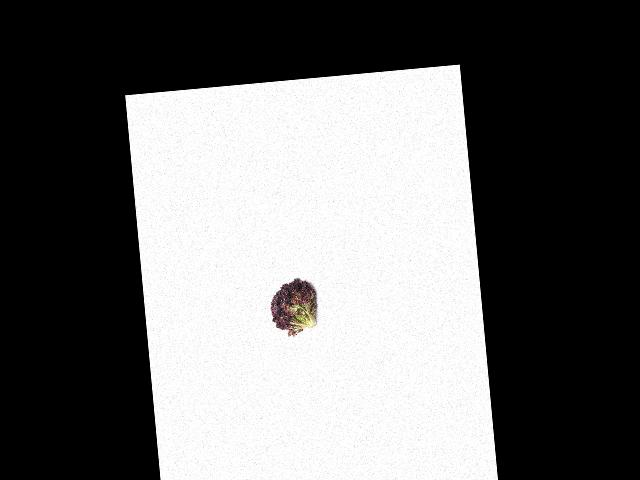lettuce: (266, 274, 322, 335)
